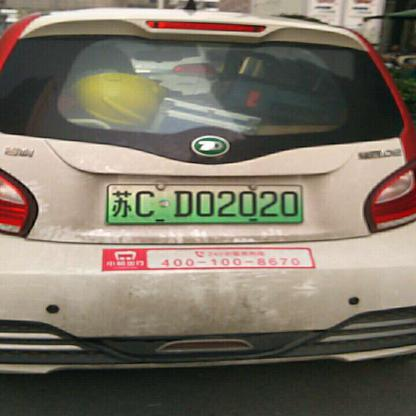lp: (107, 184, 301, 221)
